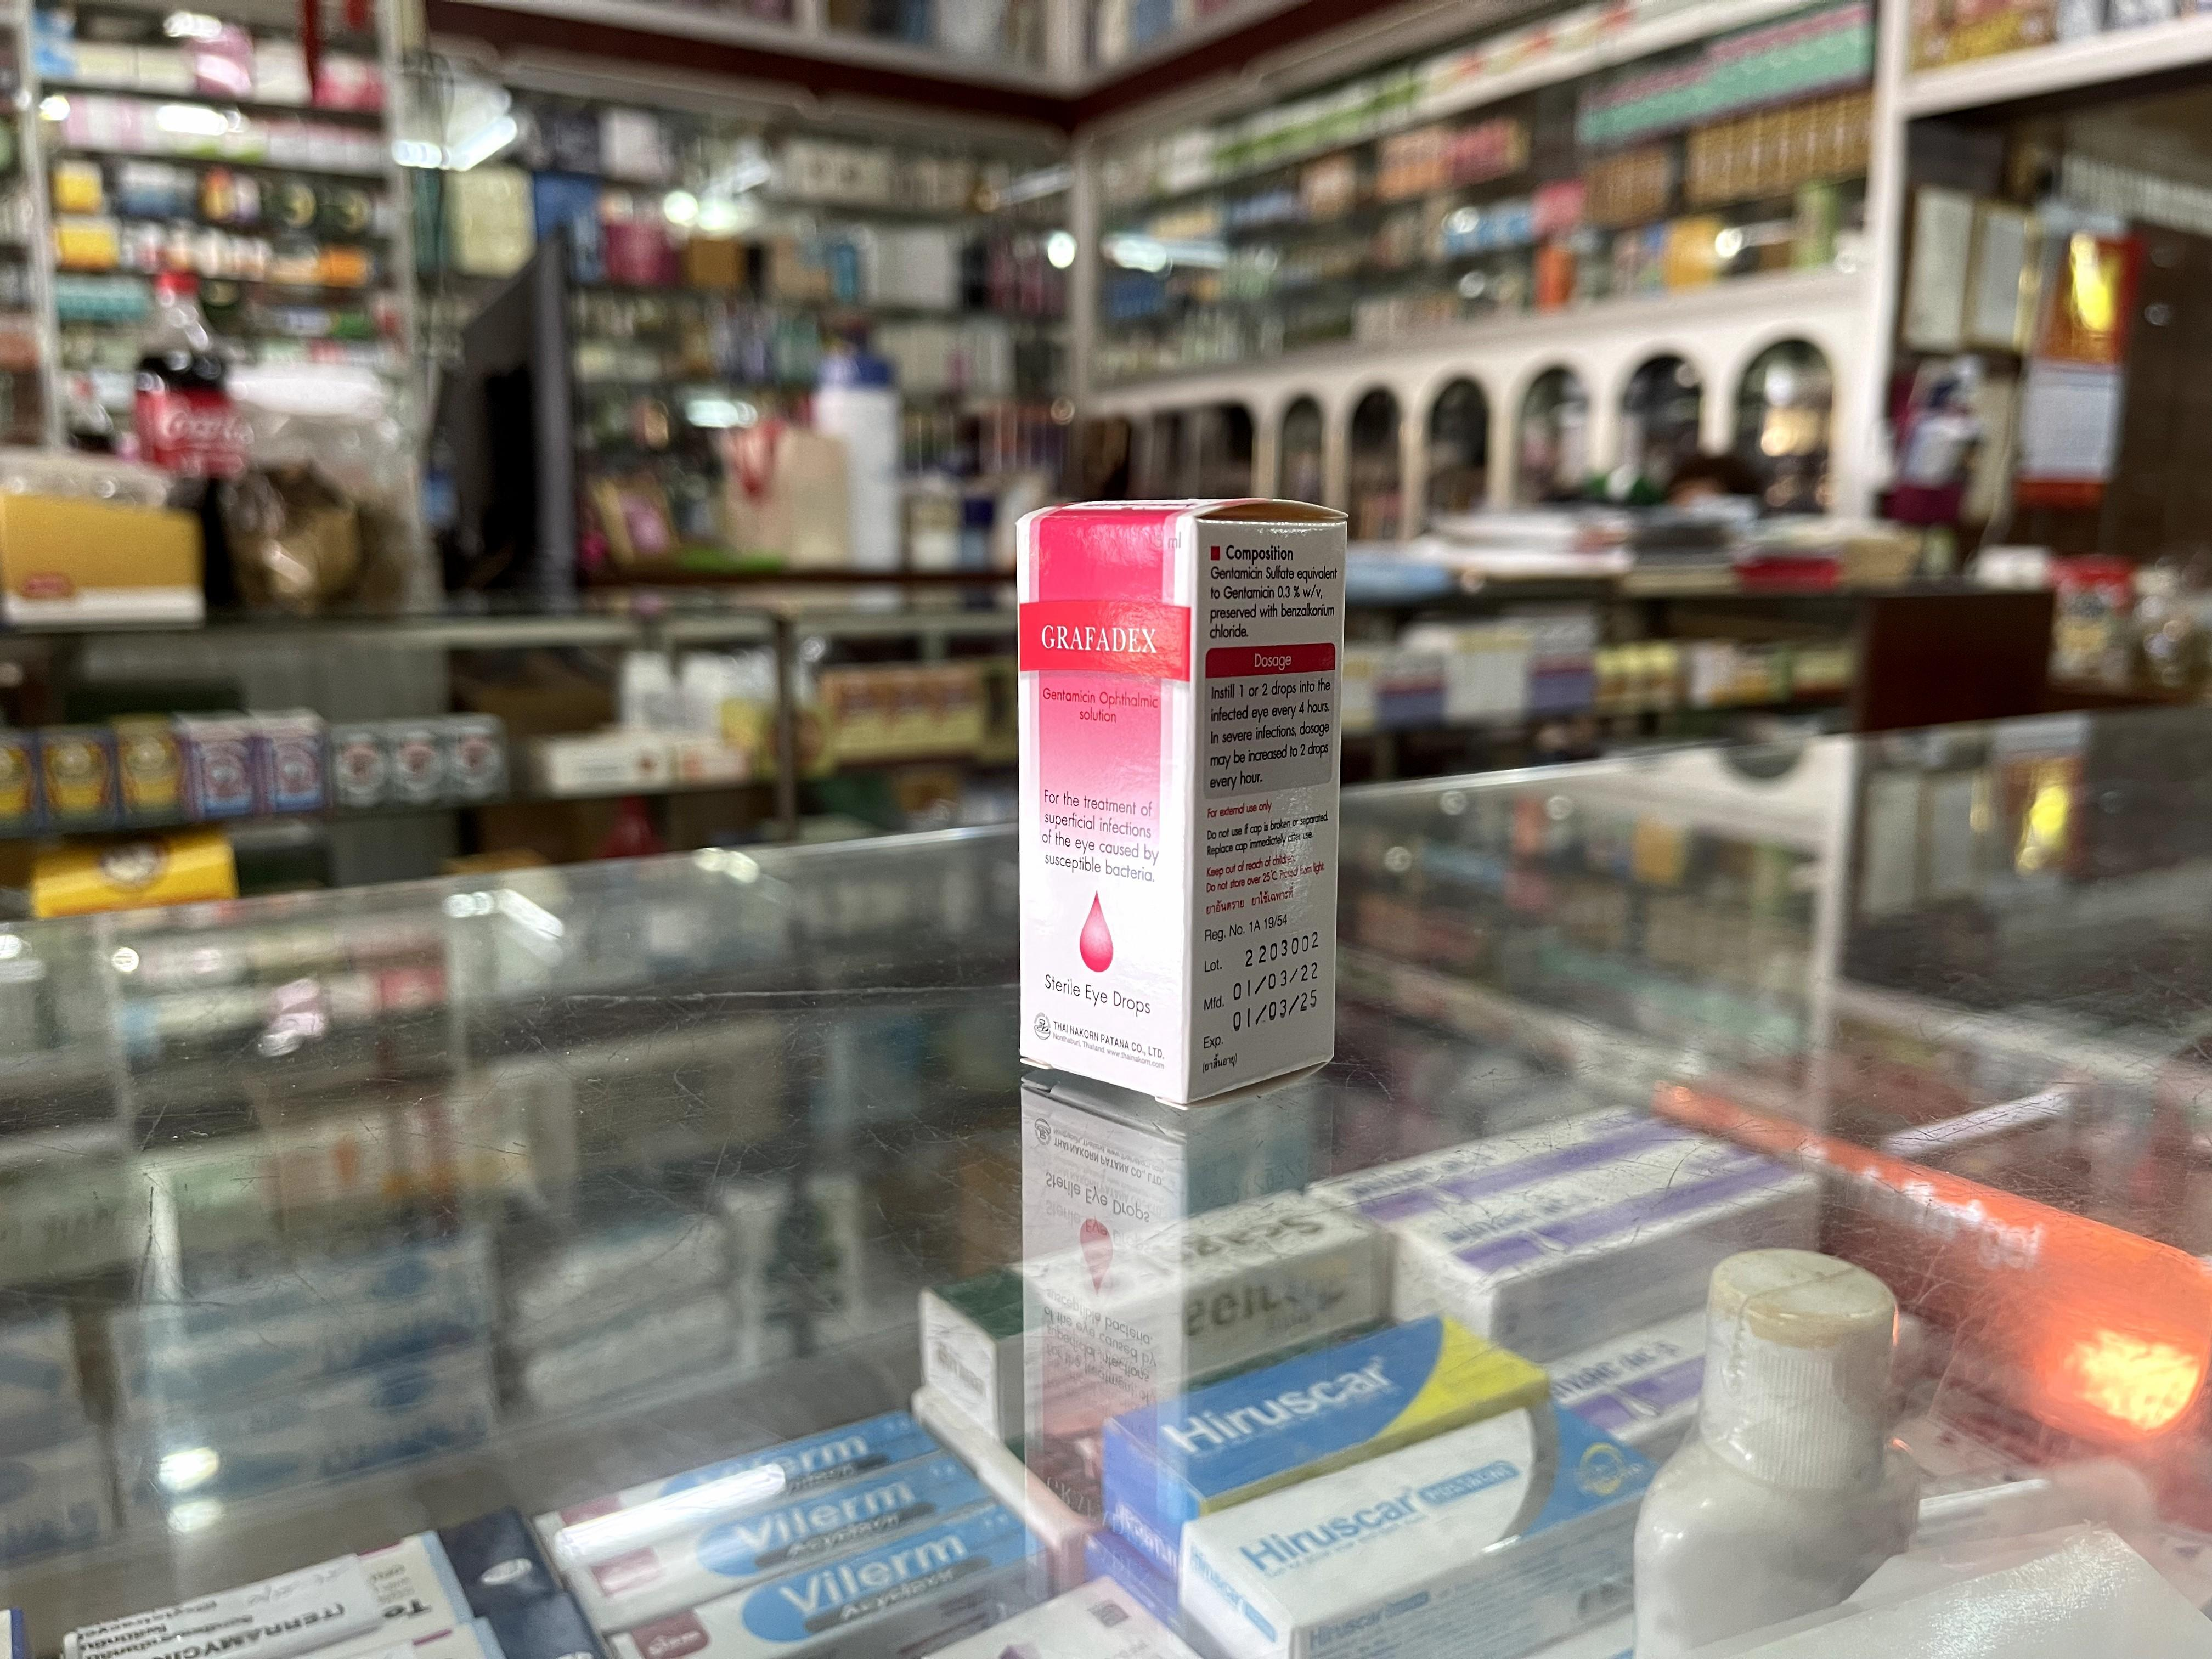Grafadex: (1017, 498, 1346, 1112)
